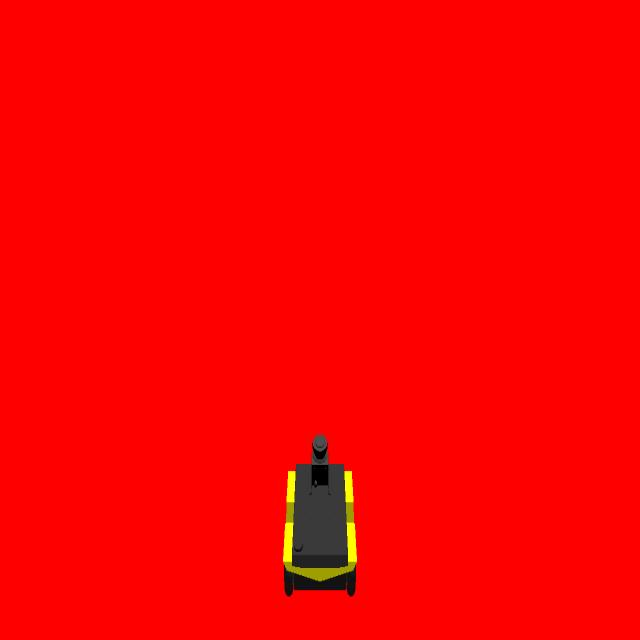jackal: (282, 421, 358, 611)
